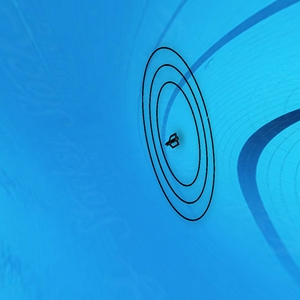circle: (131, 42, 221, 222)
submarine: (167, 134, 185, 150)
